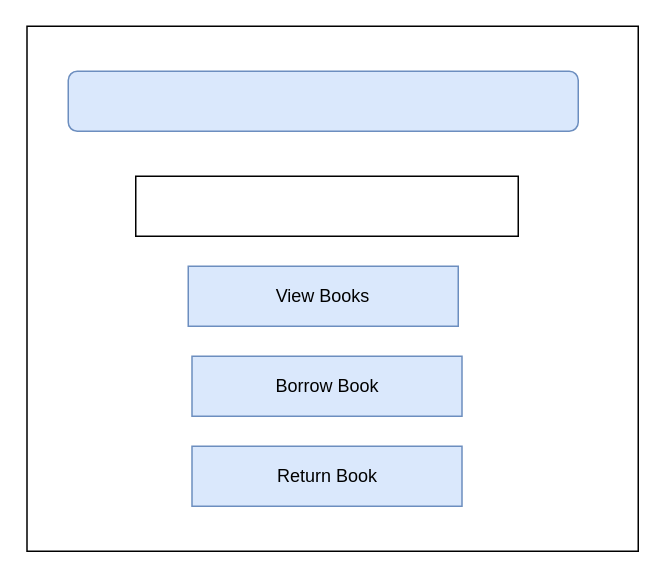
This 665x578 diagram has some shape labels left out. Each missing label, with the centre of its shape:
Library Management System: point (322, 100)
Search Books: point (326, 205)
